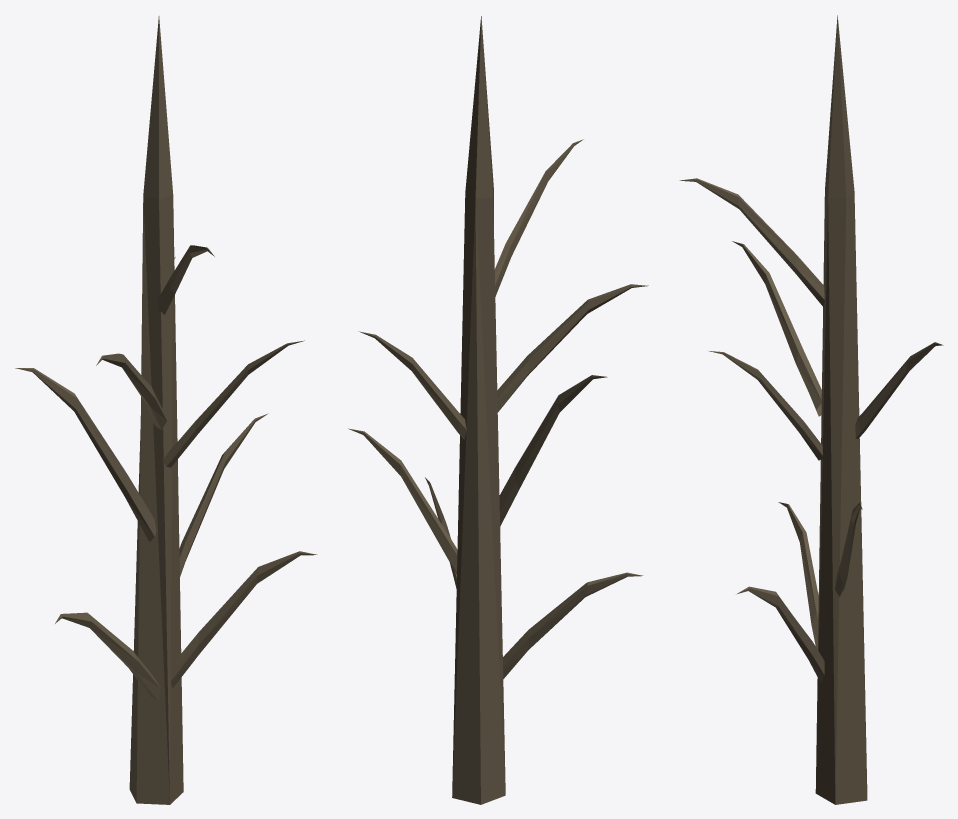
Rendered from Blue_Spruce_6_3.fbx.
3 views of the same model, side by side, from view 1: azimuth 30°, elevation 25°; view 2: azimuth 150°, elevation 25°; view 3: azimuth 270°, elevation 25° (orthographic).
Parts seen in each view (by area): view 1: Spurce_6_3; view 2: Spurce_6_3; view 3: Spurce_6_3.
Part boxes in pixels (x1,y1,x2,y2): Spurce_6_3: (15,16,317,804); Spurce_6_3: (348,16,648,804); Spurce_6_3: (679,15,943,804).
Size of the model in its own units: 209 by 604 by 187.
